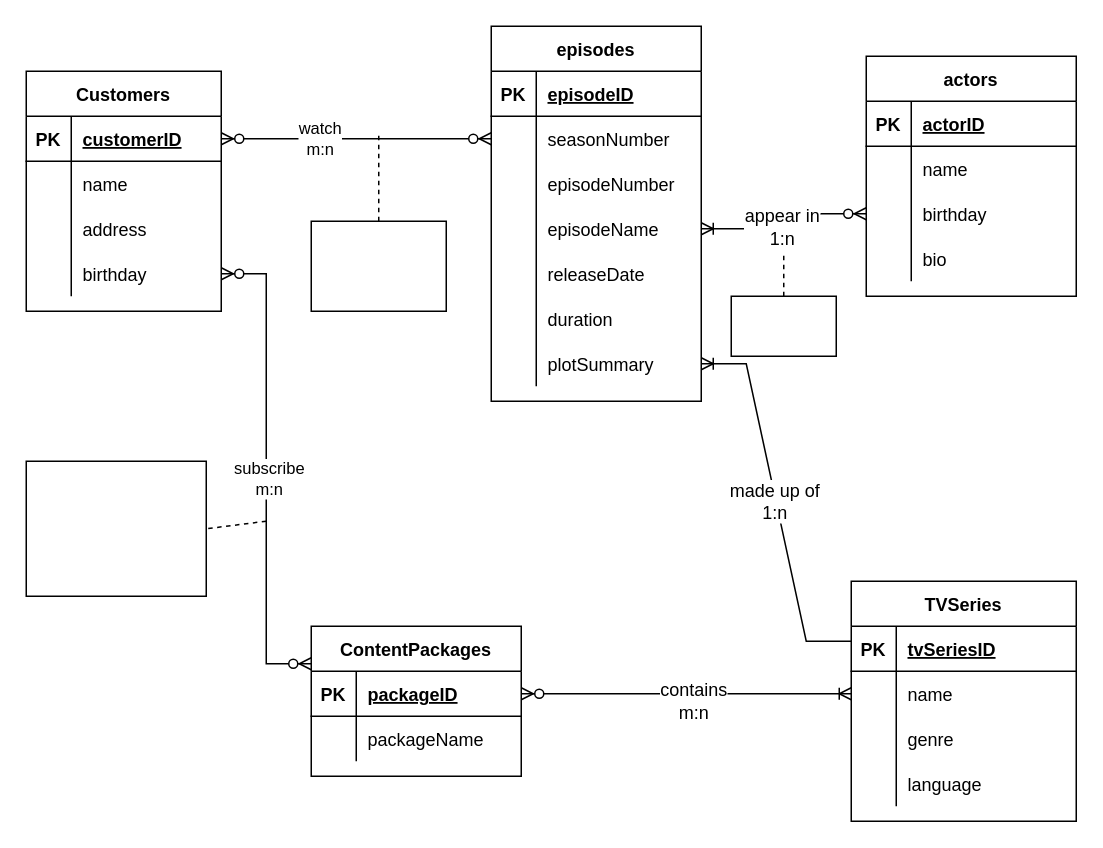
The diagram is 1103 pixels wide and 848 high, and some of its shapes have lost their labels. Here are the shapes that lost their labels. From the top down, the centre of each, then its label:
point (378, 265): startTime duration rating
point (783, 325): role
point (115, 528): startDate endDate monthlyCharge
